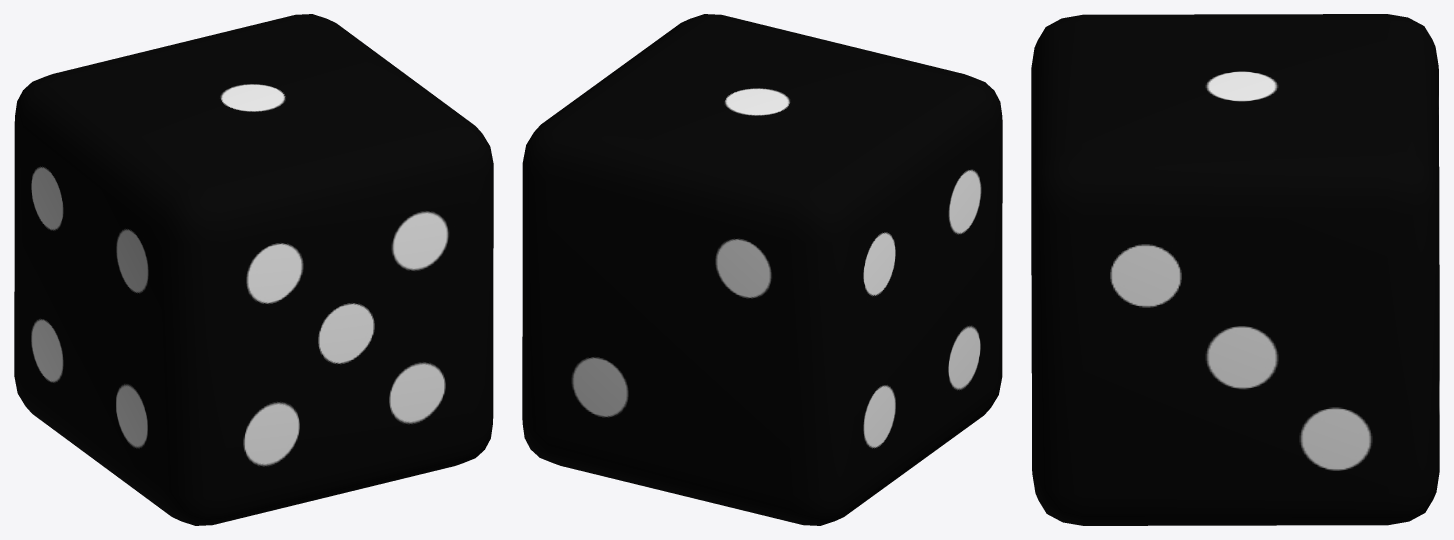
Rendered from Dice.FBX.
3 views of the same model, side by side, from view 1: azimuth 30°, elevation 25°; view 2: azimuth 150°, elevation 25°; view 3: azimuth 270°, elevation 25° (orthographic). The views are drawn at different scales.
Visible parts, largest first — view 1: Dice; view 2: Dice; view 3: Dice.
Part boxes in pixels (bbox=[...]): Dice: bbox=[14, 14, 493, 525]; Dice: bbox=[522, 14, 1002, 525]; Dice: bbox=[1031, 14, 1439, 525].
Size of the model in its own units: 50.03 by 50.13 by 50.12.
